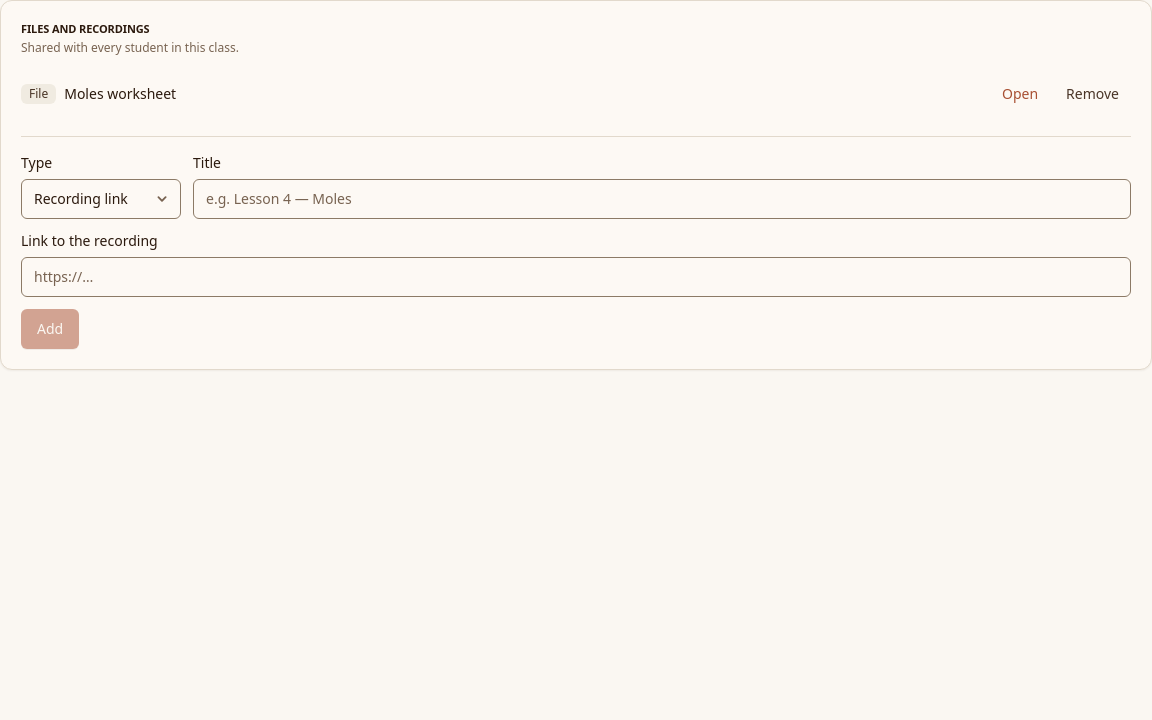
Test: an open removal does not follow the tutor to another class
Click the button named "Remove Moles worksheet" at (1093, 94), box x1=1054 y1=78 x2=1131 y2=110
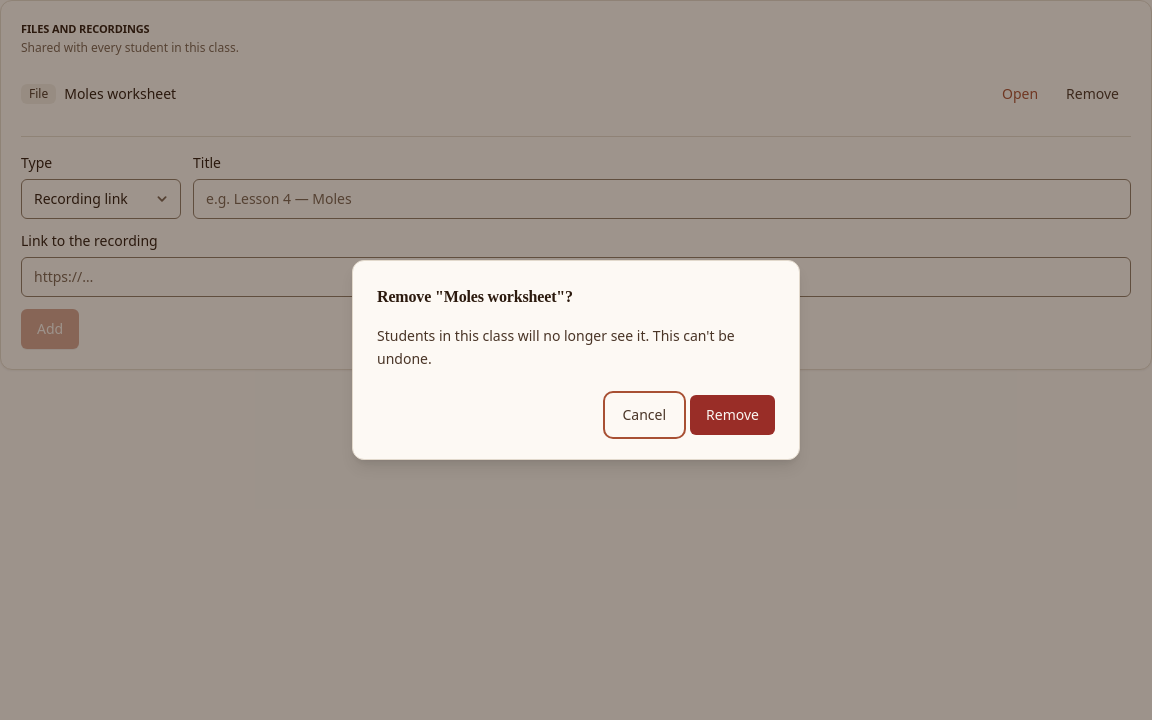
Expected: the dialog is shown, x1=352 y1=260 x2=800 y2=460
